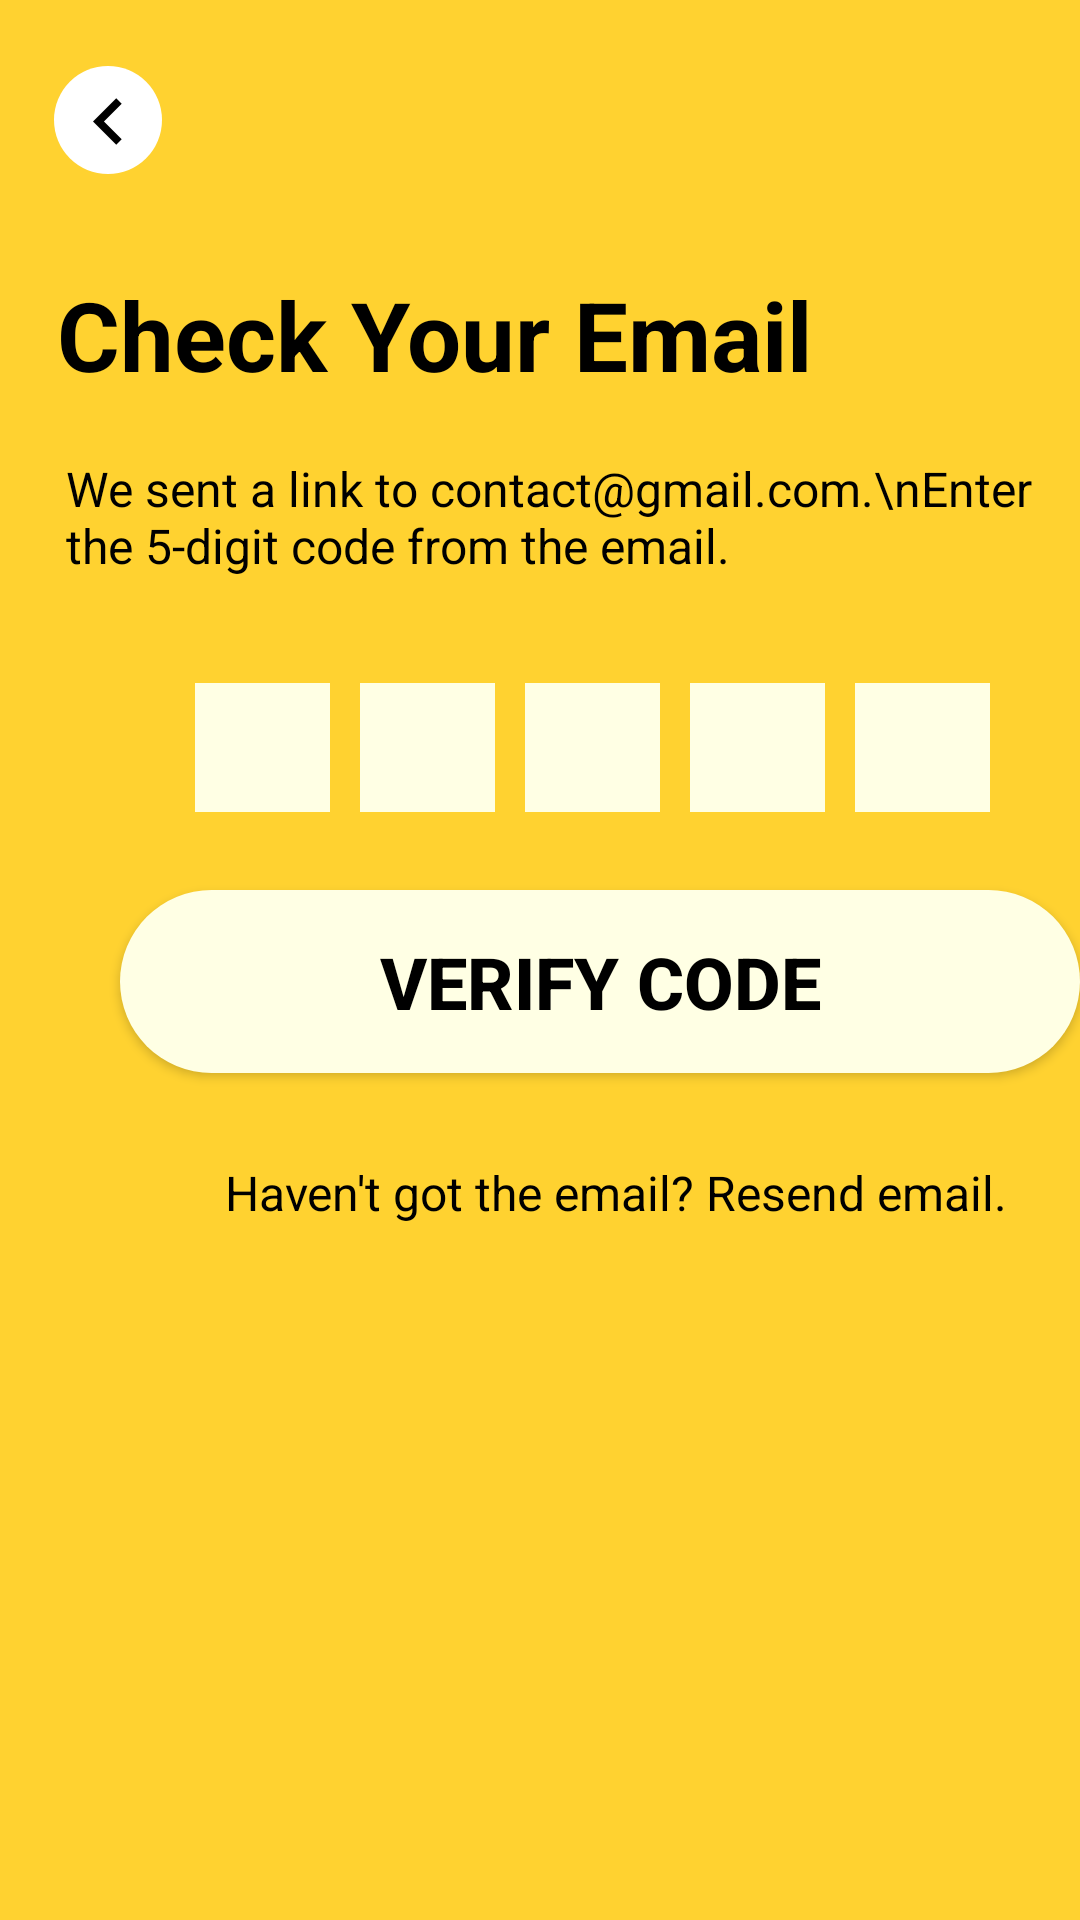

Screen size 1080x1920. Icon name, then its box in pixels as [x1,y1,x2,y2]:
arrow: [54,75,162,168]
